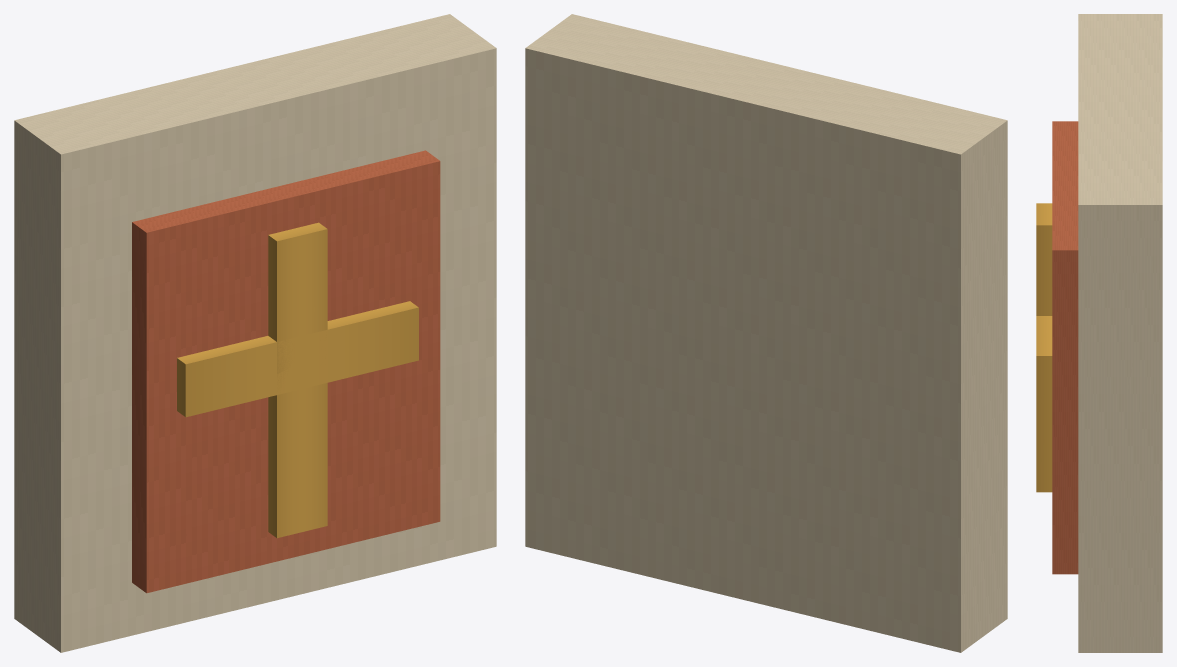
Rendered from heraldic-crest-lod0.glb.
The picture shows the model from 3 angles, left to right: view 1: azimuth 30°, elevation 25°; view 2: azimuth 150°, elevation 25°; view 3: azimuth 270°, elevation 25°; orthographic projection. The views are drawn at different scales.
Parts seen in each view (by area): view 1: heraldic-crest-lod0; view 2: heraldic-crest-lod0; view 3: heraldic-crest-lod0.
Part boxes in pixels (box(x1,y1,x2,y2)): heraldic-crest-lod0: box(14, 14, 496, 652); heraldic-crest-lod0: box(525, 14, 1007, 652); heraldic-crest-lod0: box(1036, 14, 1162, 652).
Size of the model in its own units: 0.86 by 0.94 by 0.24.
1 material, 1 textured.
